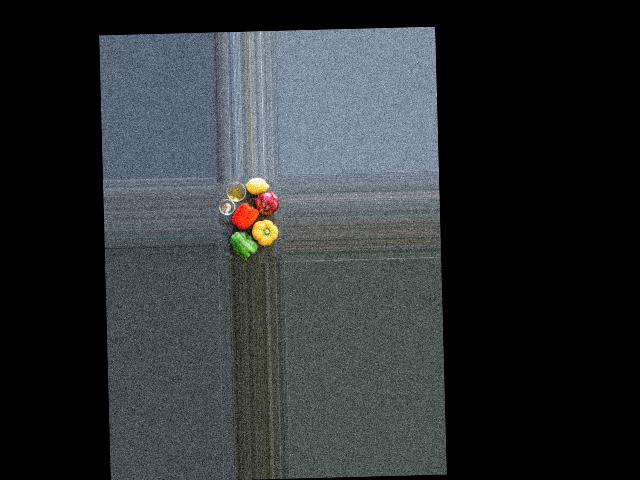bell_pepper: (230, 202, 260, 229)
